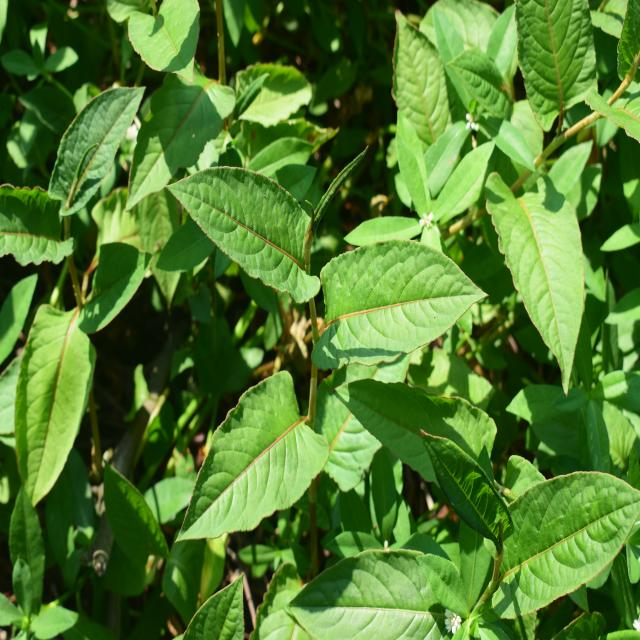Chinese_knotweed: (170, 146, 434, 523), (288, 436, 615, 626), (0, 82, 146, 491)
